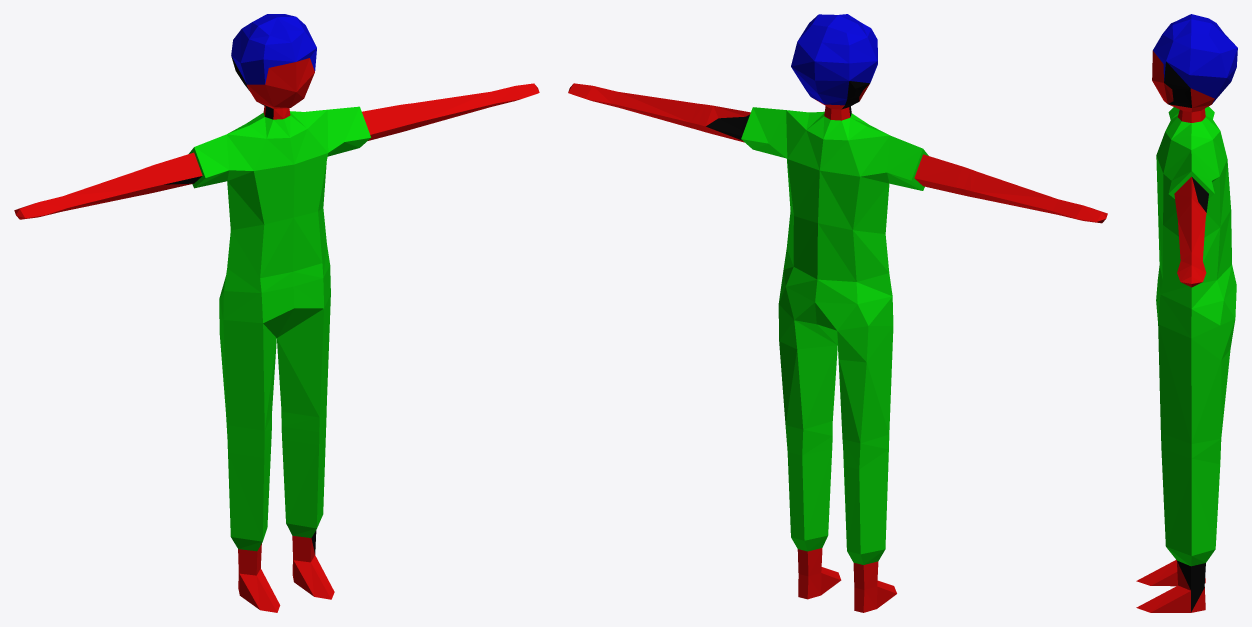
Rendered from Zombies_Male_Kid_NoArmature.fbx.
The picture shows the model from 3 angles, left to right: view 1: azimuth 30°, elevation 25°; view 2: azimuth 150°, elevation 25°; view 3: azimuth 270°, elevation 25°; orthographic projection. The views are drawn at different scales.
Parts seen in each view (by area): view 1: Male_Kid; view 2: Male_Kid; view 3: Male_Kid.
Boxes of the visible parts, x1,y1,x2,y2 form: Male_Kid: [14, 14, 539, 612]; Male_Kid: [568, 14, 1107, 612]; Male_Kid: [1136, 14, 1237, 612].
Size of the model in its own units: 118 by 123 by 19.74.
